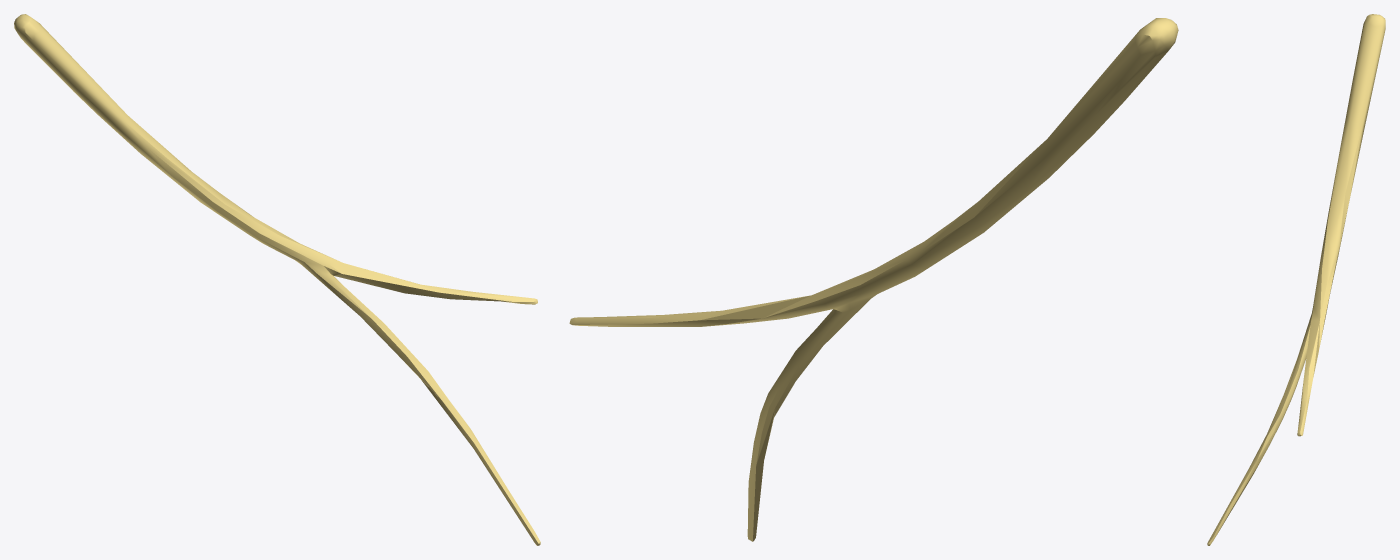
The model's file is fma37074_fj4243.glb.
3 renders of one model, left to right at view 1: azimuth 30°, elevation 25°; view 2: azimuth 150°, elevation 25°; view 3: azimuth 270°, elevation 25°, orthographic. The views are drawn at different scales.
Parts seen in each view (by area): view 1: FMA37074_FJ4243; view 2: FMA37074_FJ4243; view 3: FMA37074_FJ4243.
Part boxes in pixels (left/top/right/bottom): FMA37074_FJ4243: left=14, top=14, right=540, bottom=545; FMA37074_FJ4243: left=569, top=18, right=1178, bottom=541; FMA37074_FJ4243: left=1207, top=14, right=1385, bottom=545.
Bounding box in the file's own units: 0.0433 × 0.0478 × 0.0197.
